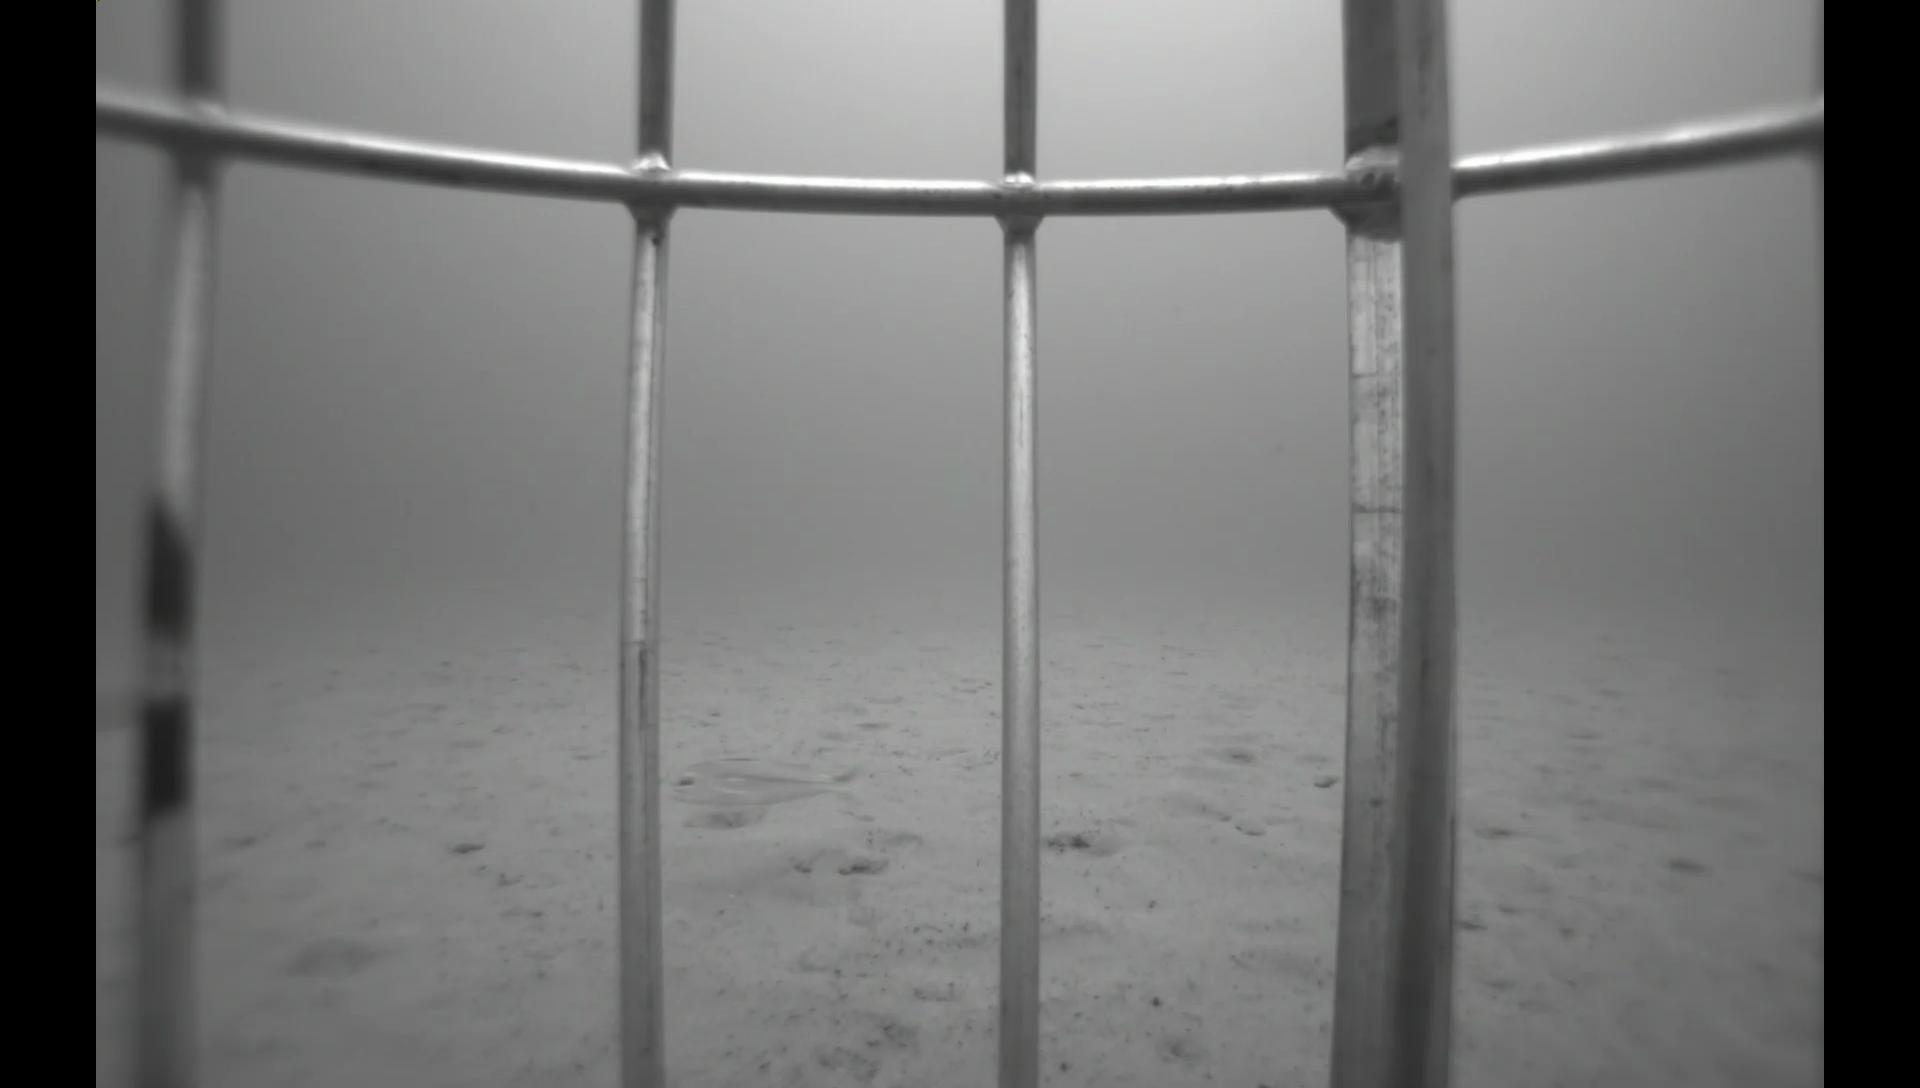CAULOLATILUSCYANOPS-170070101: (666, 752, 877, 814)
